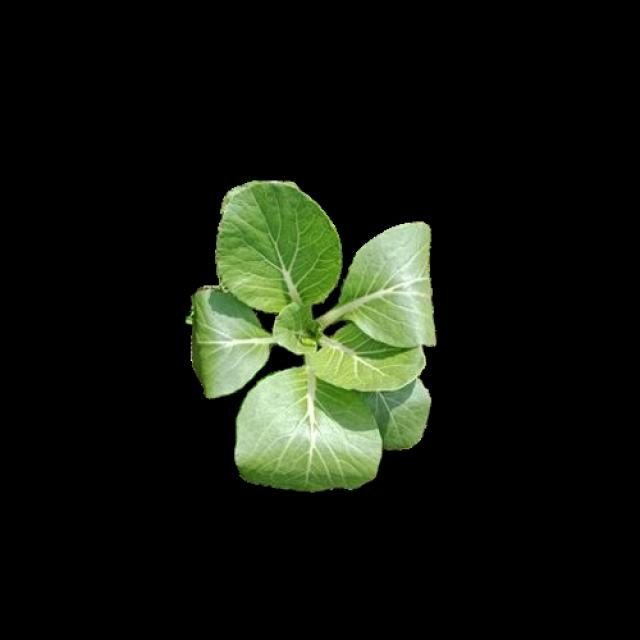healthy: (186, 177, 434, 490)
not-mature: (188, 179, 437, 493)
